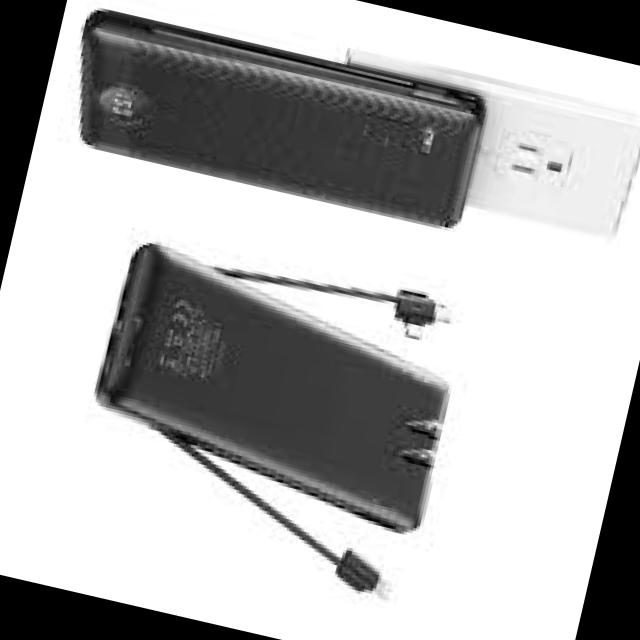portable-charger: (77, 228, 474, 539), (55, 1, 493, 237)
